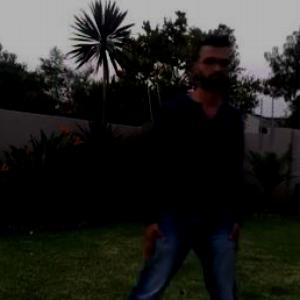follow: (136, 24, 256, 299)
